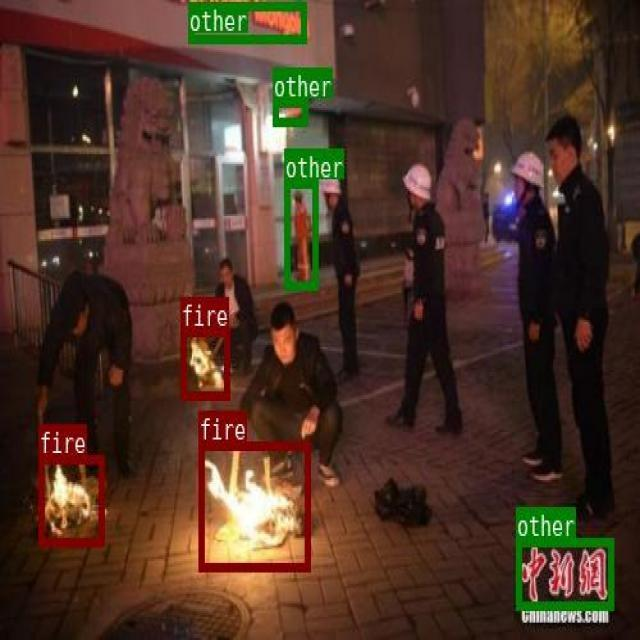fire: (198, 440, 309, 569), (38, 454, 104, 545), (180, 327, 228, 399)
